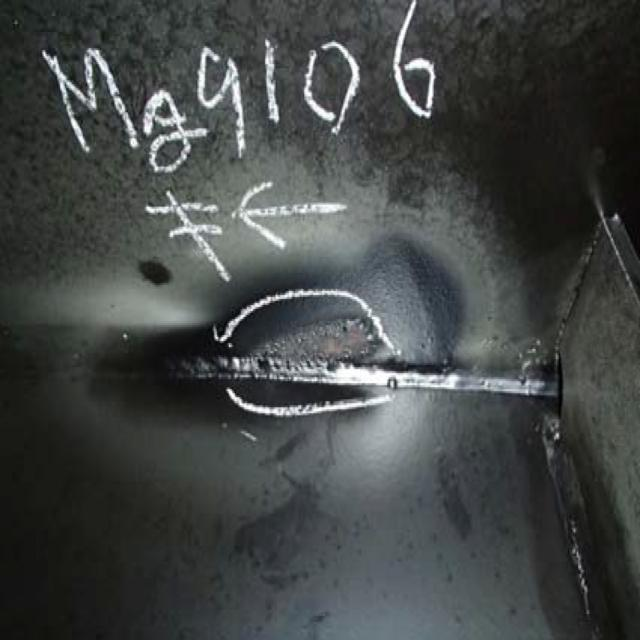corrosion: (173, 273, 410, 434)
